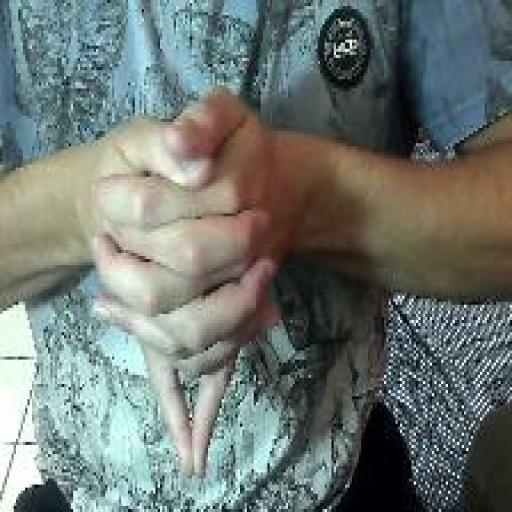Tatsu -dragon-: (87, 82, 286, 485)
